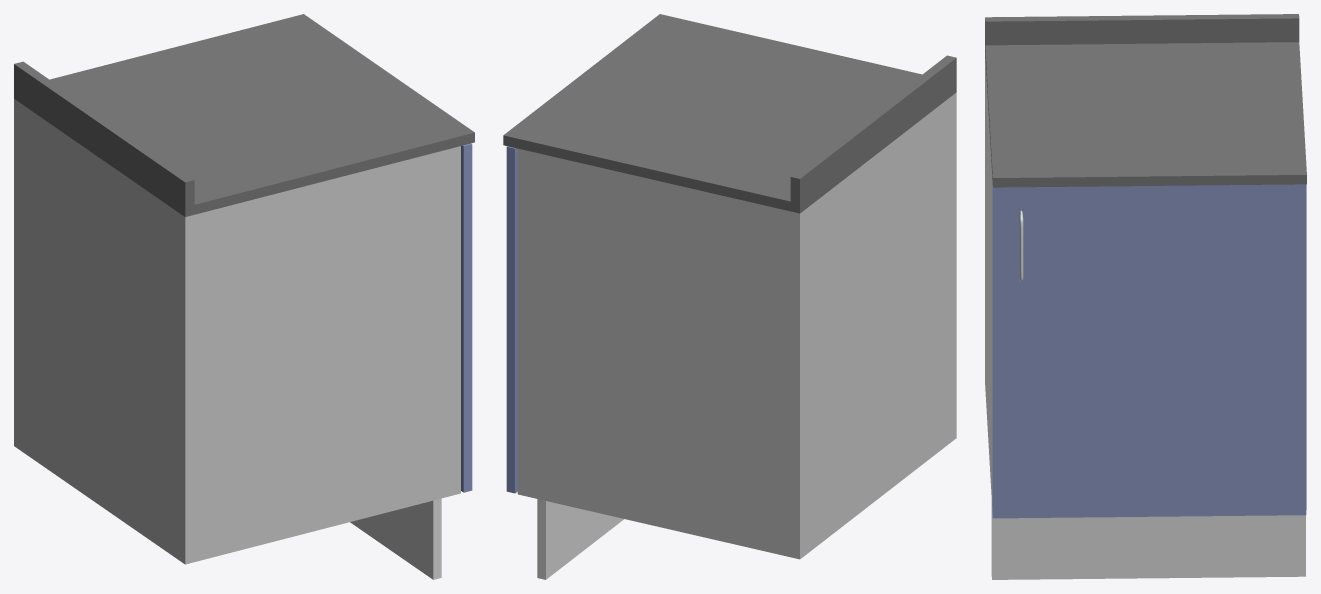
The model's file is cabinet2.fbx.
3 views of the same model, side by side, from view 1: azimuth 30°, elevation 25°; view 2: azimuth 150°, elevation 25°; view 3: azimuth 270°, elevation 25° (orthographic). The views are drawn at different scales.
Parts seen in each view (by area): view 1: Cabinet5, Countertop2.004, Cabinet2_Door.004, Baseboard2.004; view 2: Cabinet5, Countertop2.004, Cabinet2_Door.004, Baseboard2.004; view 3: Cabinet2_Door.004, Countertop2.004, Baseboard2.004, Cabinet5.
Boxes of the visible parts, x1,y1,x2,y2 form: Cabinet5: [14, 99, 460, 564]; Countertop2.004: [14, 14, 474, 216]; Cabinet2_Door.004: [461, 143, 472, 492]; Baseboard2.004: [350, 498, 441, 579]; Cabinet5: [517, 92, 956, 559]; Countertop2.004: [503, 14, 956, 213]; Cabinet2_Door.004: [506, 146, 517, 493]; Baseboard2.004: [537, 499, 623, 579]; Cabinet2_Door.004: [992, 184, 1306, 518]; Countertop2.004: [985, 14, 1306, 187]; Baseboard2.004: [991, 501, 1305, 579]; Cabinet5: [985, 53, 1306, 511].
Bounding box in the file's own units: 61.94 × 87.73 × 58.01.
